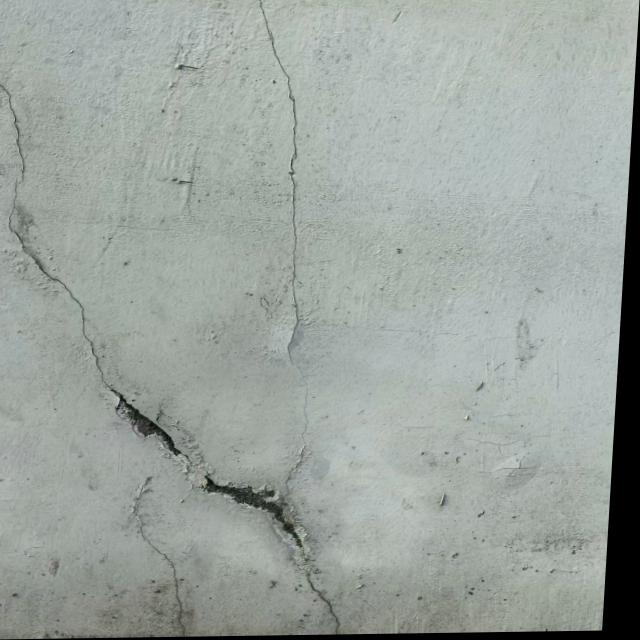crack: (0, 0, 352, 632), (114, 459, 192, 633)
hollowing: (488, 451, 544, 491)
